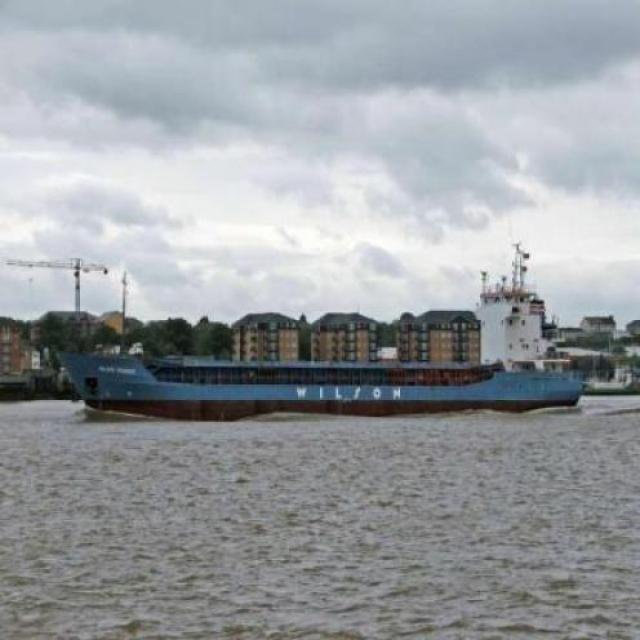boat: (42, 337, 598, 424)
